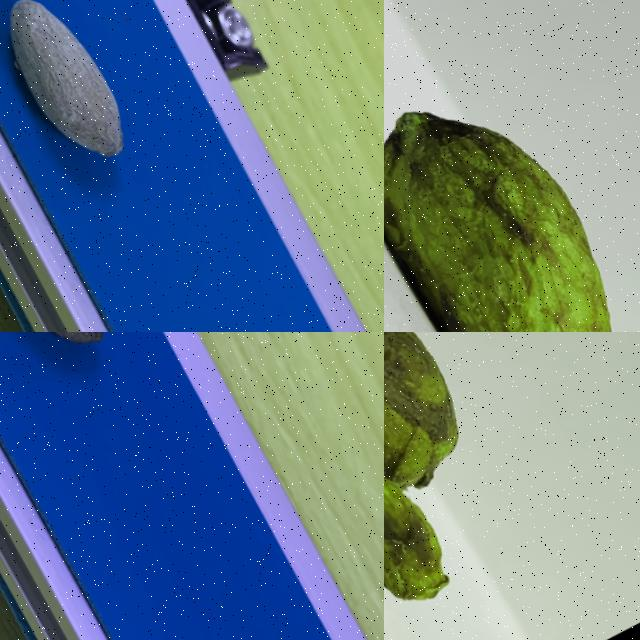Agglomerated_cocoabeans: (384, 332, 599, 639)
Fine_cocoabeans: (384, 0, 639, 331), (0, 0, 220, 313), (0, 332, 216, 497)
